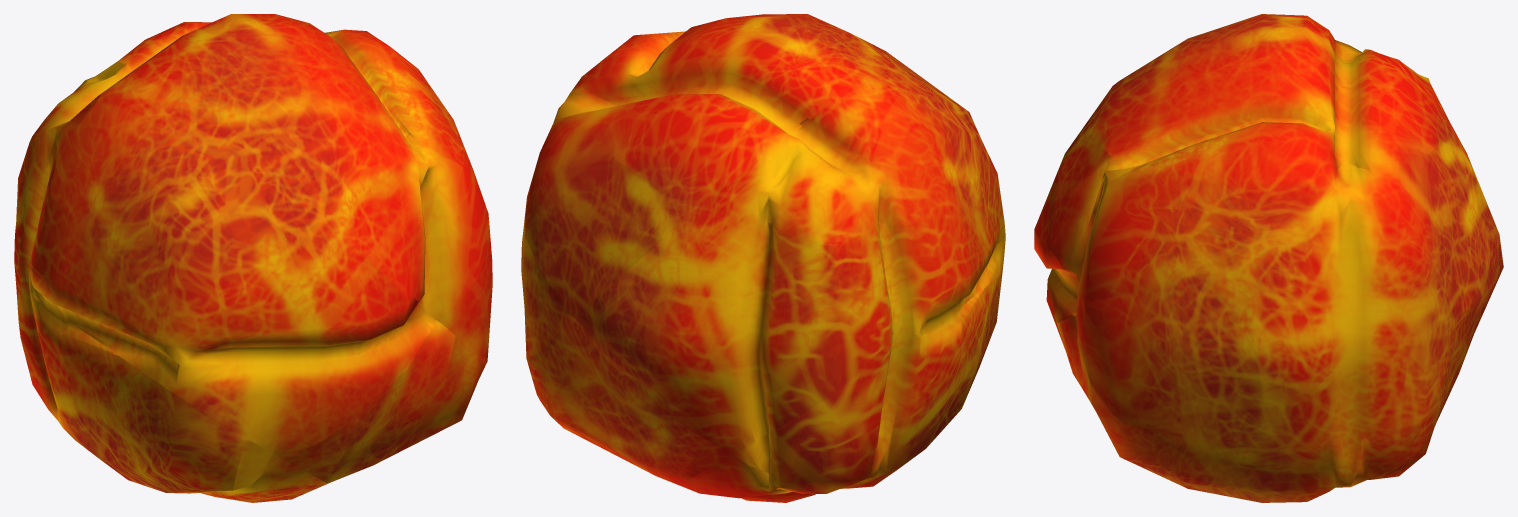
Rendered from magma break ball.fbx.
3 views of the same model, side by side, from view 1: azimuth 30°, elevation 25°; view 2: azimuth 150°, elevation 25°; view 3: azimuth 270°, elevation 25° (orthographic). The views are drawn at different scales.
Visible parts, largest first — view 1: MAgma ball.016, MAgma ball.002, MAgma ball.003, MAgma ball.001, MAgma ball.015, MAgma ball.007, MAgma ball.010, MAgma ball.008, MAgma ball.006, MAgma ball.013, MAgma ball.009, MAgma ball.014; view 2: MAgma ball.006, MAgma ball.007, MAgma ball.008, MAgma ball.004, MAgma ball.013, MAgma ball.011, MAgma ball.016, MAgma ball.001, MAgma ball.015, MAgma ball.012, MAgma ball.005, MAgma ball.002; view 3: MAgma ball.004, MAgma ball.005, MAgma ball.007, MAgma ball.009, MAgma ball.003, MAgma ball.002, MAgma ball.010, MAgma ball.011, MAgma ball.016, MAgma ball.006, MAgma ball.008.
Boxes of the visible parts, left/top/right/bottom form: MAgma ball.016: left=59, top=213, right=455, bottom=459; MAgma ball.002: left=184, top=55, right=432, bottom=212; MAgma ball.003: left=317, top=81, right=490, bottom=319; MAgma ball.001: left=87, top=106, right=315, bottom=247; MAgma ball.015: left=62, top=321, right=284, bottom=492; MAgma ball.007: left=118, top=14, right=421, bottom=105; MAgma ball.010: left=285, top=320, right=484, bottom=482; MAgma ball.008: left=28, top=61, right=183, bottom=219; MAgma ball.006: left=14, top=143, right=86, bottom=320; MAgma ball.013: left=15, top=280, right=88, bottom=450; MAgma ball.009: left=436, top=237, right=492, bottom=366; MAgma ball.014: left=119, top=460, right=330, bottom=502; MAgma ball.006: left=570, top=195, right=971, bottom=454; MAgma ball.007: left=582, top=16, right=875, bottom=207; MAgma ball.008: left=700, top=69, right=957, bottom=246; MAgma ball.004: left=525, top=73, right=699, bottom=317; MAgma ball.013: left=662, top=239, right=961, bottom=493; MAgma ball.011: left=528, top=320, right=732, bottom=484; MAgma ball.016: left=958, top=142, right=1005, bottom=307; MAgma ball.001: left=876, top=59, right=982, bottom=194; MAgma ball.015: left=897, top=272, right=1002, bottom=469; MAgma ball.012: left=677, top=455, right=888, bottom=502; MAgma ball.005: left=521, top=214, right=573, bottom=363; MAgma ball.002: left=674, top=14, right=896, bottom=68; MAgma ball.004: left=1232, top=125, right=1480, bottom=311; MAgma ball.005: left=1247, top=287, right=1467, bottom=456; MAgma ball.007: left=1222, top=15, right=1451, bottom=180; MAgma ball.009: left=1076, top=288, right=1274, bottom=456; MAgma ball.003: left=1051, top=125, right=1246, bottom=307; MAgma ball.002: left=1086, top=26, right=1232, bottom=177; MAgma ball.010: left=1057, top=315, right=1285, bottom=502; MAgma ball.011: left=1275, top=313, right=1477, bottom=502; MAgma ball.016: left=1034, top=122, right=1087, bottom=332; MAgma ball.006: left=1449, top=122, right=1503, bottom=331; MAgma ball.008: left=1228, top=14, right=1449, bottom=123.
Bounding box in the file's own units: 104 × 112 × 104.
